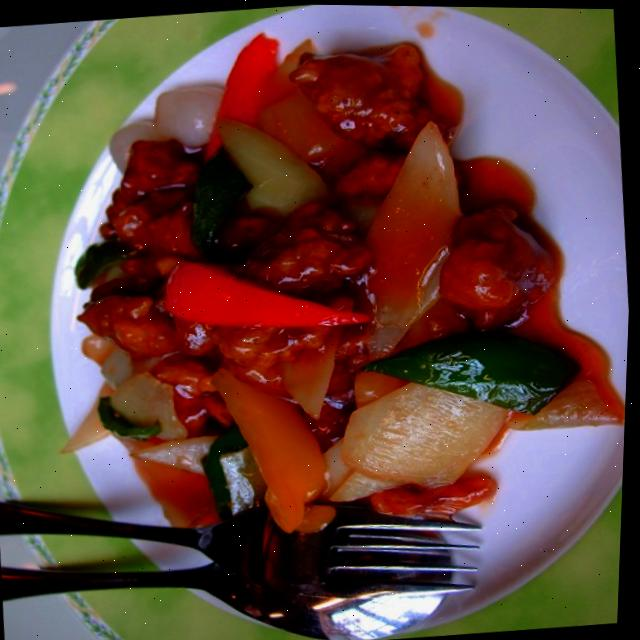猪肉菜式: (28, 1, 640, 555)
